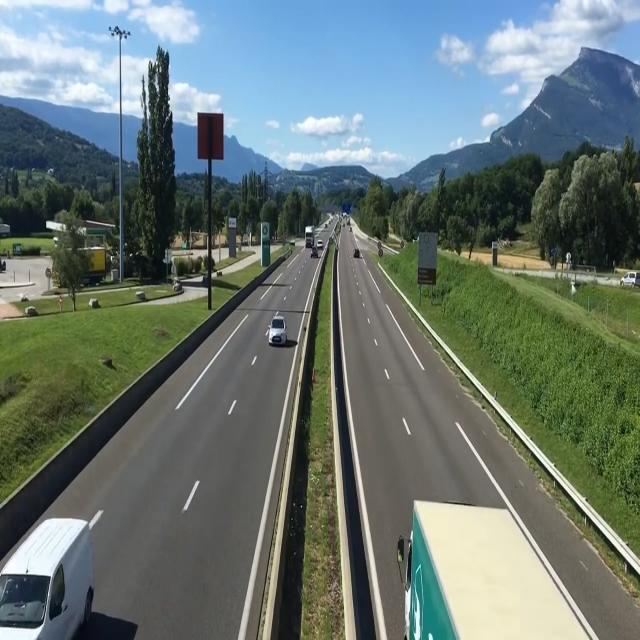car: (0, 517, 94, 640), (268, 311, 287, 350)
truck: (386, 487, 603, 640)
